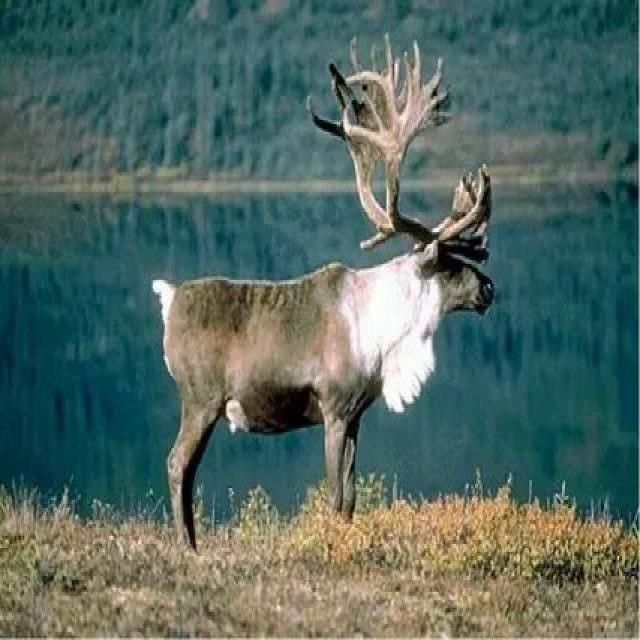deer: (168, 69, 492, 558)
